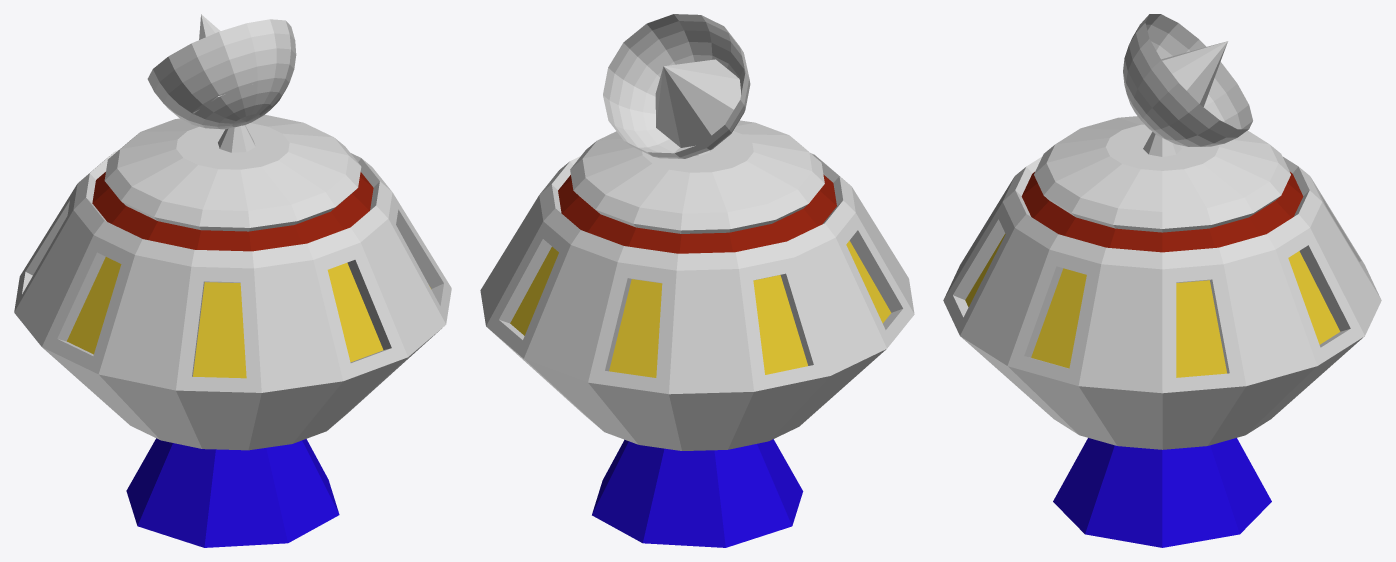
Rendered from satelbase.fbx.
The picture shows the model from 3 angles, left to right: view 1: azimuth 30°, elevation 25°; view 2: azimuth 150°, elevation 25°; view 3: azimuth 270°, elevation 25°; orthographic projection.
Visible parts, largest first — view 1: Cone.001, Cone; view 2: Cone.001, Cone; view 3: Cone.001, Cone.
Boxes of the visible parts, <box> form: Cone.001: <box>14,14,451,450</box>; Cone: <box>126,438,339,547</box>; Cone.001: <box>480,14,914,450</box>; Cone: <box>592,439,803,547</box>; Cone.001: <box>943,14,1381,449</box>; Cone: <box>1053,438,1271,547</box>.
Size of the model in its own units: 400 by 485 by 400.
